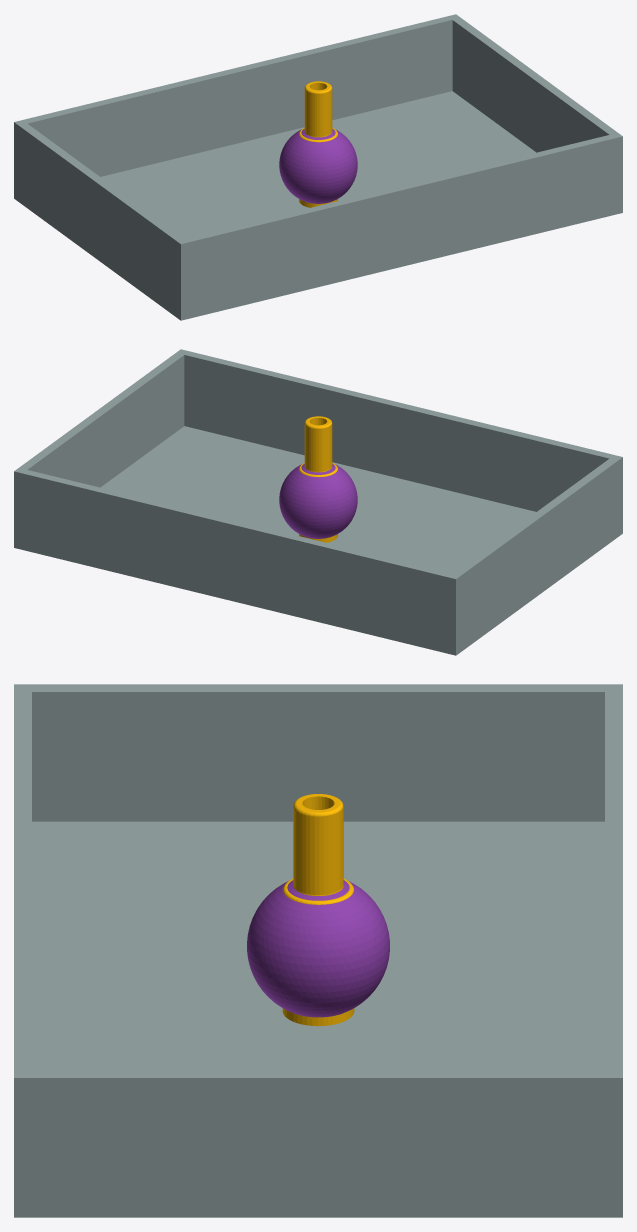
The model's file is GameScene.glb.
3 views of the same model, one above another, from view 1: azimuth 30°, elevation 25°; view 2: azimuth 150°, elevation 25°; view 3: azimuth 270°, elevation 25° (orthographic). The views are drawn at different scales.
Parts seen in each view (by area): view 1: node0, node1, node2; view 2: node0, node1, node2; view 3: node0, node1, node2.
Part boxes in pixels (x1,y1,x2,y2): node0: (14,14,622,320); node1: (279,129,357,203); node2: (299,81,337,207); node0: (14,349,622,655); node1: (279,464,357,538); node2: (299,416,337,542); node0: (14,684,622,1217); node1: (247,880,389,1017); node2: (282,794,354,1026).
Bounding box in the file's own units: 0.26 × 0.067 × 0.17.
